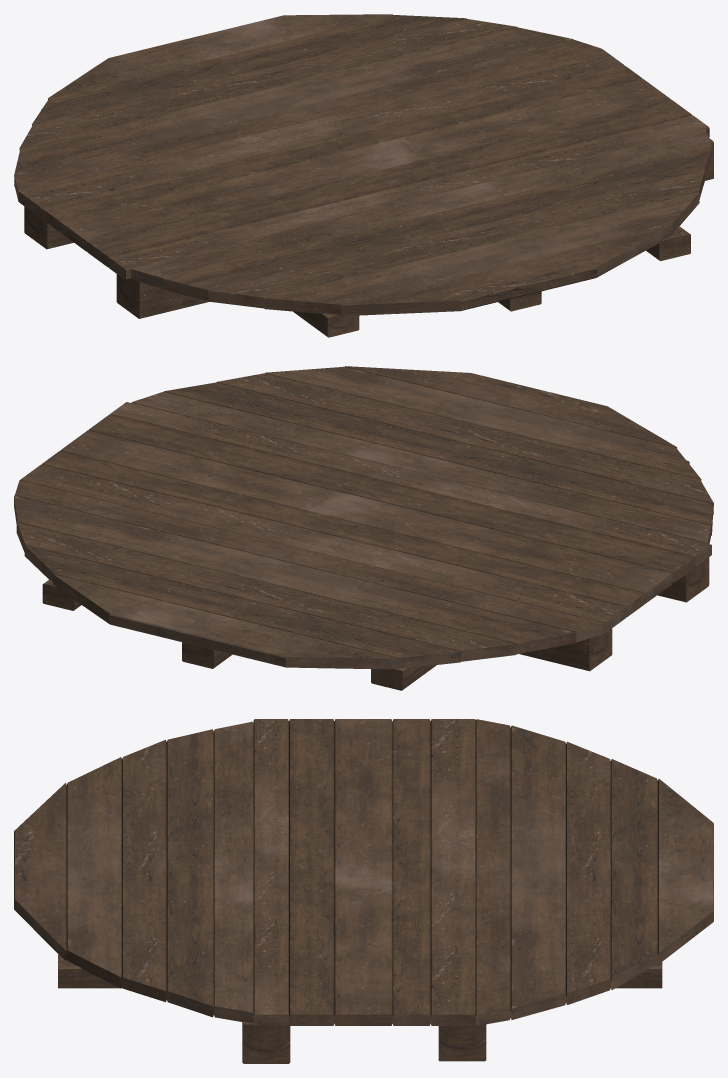
File: SM_Round_Tower_Wooden_Floor_01.fbx
3 views of the same model, one above another, from view 1: azimuth 30°, elevation 25°; view 2: azimuth 150°, elevation 25°; view 3: azimuth 270°, elevation 25° (orthographic). The views are drawn at different scales.
Visible parts, largest first — view 1: SM_Round_Tower_Wooden_Floor_01_LOD0; view 2: SM_Round_Tower_Wooden_Floor_01_LOD0; view 3: SM_Round_Tower_Wooden_Floor_01_LOD0.
Boxes of the visible parts, x1,y1,x2,y2 form: SM_Round_Tower_Wooden_Floor_01_LOD0: [14, 14, 713, 337]; SM_Round_Tower_Wooden_Floor_01_LOD0: [14, 366, 713, 690]; SM_Round_Tower_Wooden_Floor_01_LOD0: [14, 719, 713, 1063].
Size of what is drawn, in the model's own units: 713 by 55.76 by 714.
